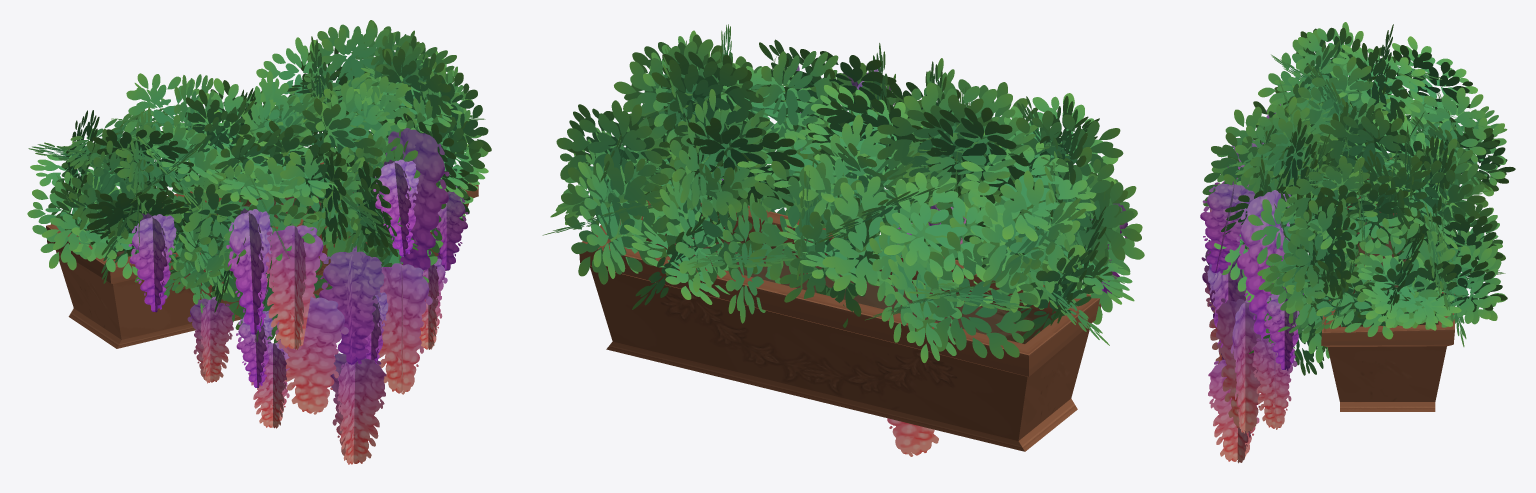
File: SM_PROP_plant_pot_city_09.fbx
The picture shows the model from 3 angles, left to right: view 1: azimuth 30°, elevation 25°; view 2: azimuth 150°, elevation 25°; view 3: azimuth 270°, elevation 25°; orthographic projection. The views are drawn at different scales.
Visible parts, largest first — view 1: SM_PROP_plant_pot_city_09_foliage, SM_PROP_plant_pot_city_09; view 2: SM_PROP_plant_pot_city_09_foliage, SM_PROP_plant_pot_city_09; view 3: SM_PROP_plant_pot_city_09_foliage, SM_PROP_plant_pot_city_09.
Boxes of the visible parts, bbox=[...] form: SM_PROP_plant_pot_city_09_foliage: bbox=[27, 20, 491, 464]; SM_PROP_plant_pot_city_09: bbox=[46, 162, 478, 348]; SM_PROP_plant_pot_city_09_foliage: bbox=[542, 24, 1144, 456]; SM_PROP_plant_pot_city_09: bbox=[579, 200, 1100, 451]; SM_PROP_plant_pot_city_09_foliage: bbox=[1200, 22, 1515, 463]; SM_PROP_plant_pot_city_09: bbox=[1321, 155, 1454, 411].
Bounding box in the file's own units: 169 × 133 × 107.
